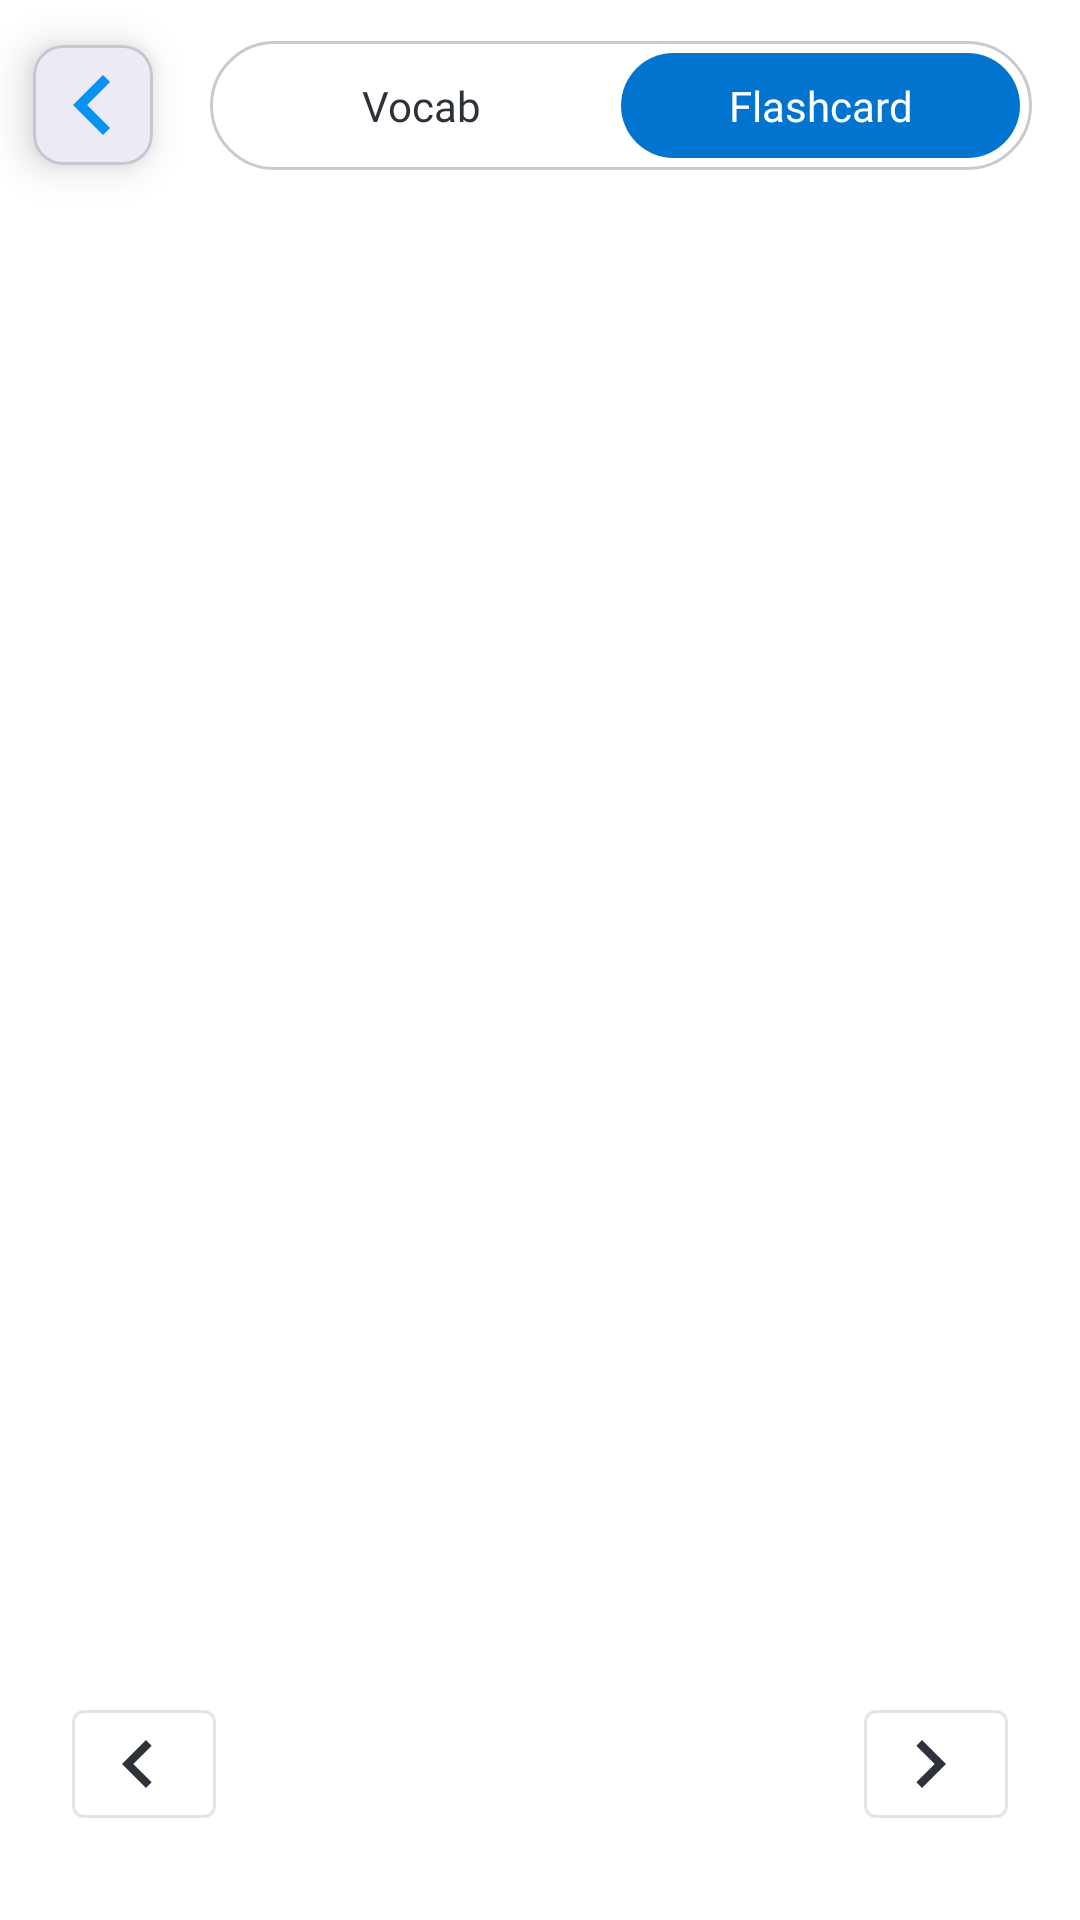

Where to tap for icons on this 1080*1920 app screen, as [x,y]:
Back: [93,105]
